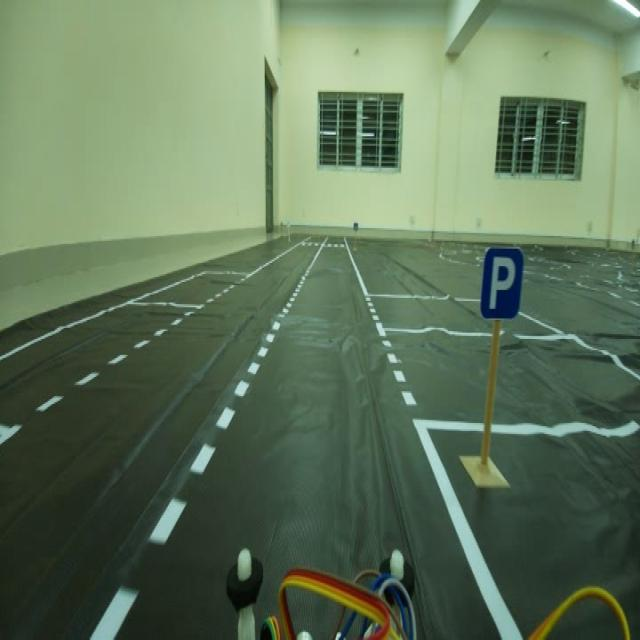parking: (481, 234, 529, 328)
